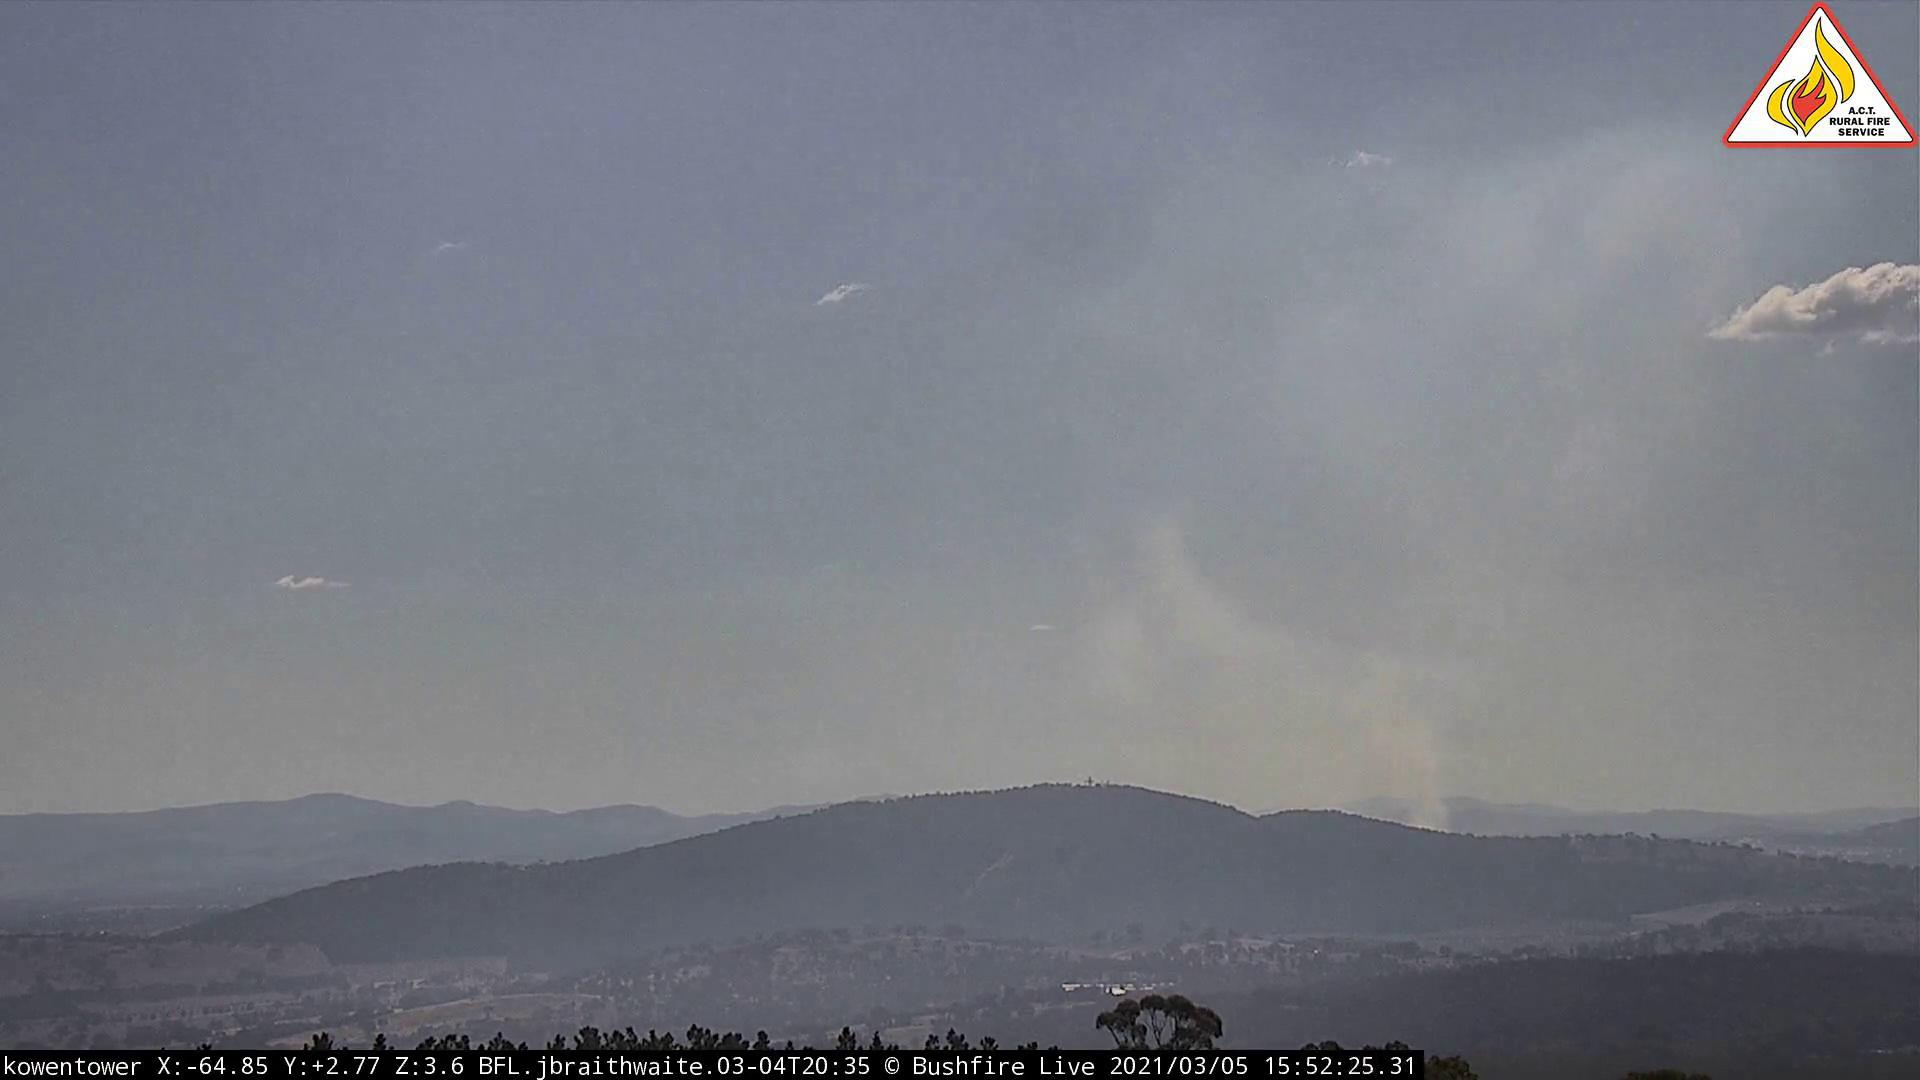Smoke: (927, 165, 1836, 837)
